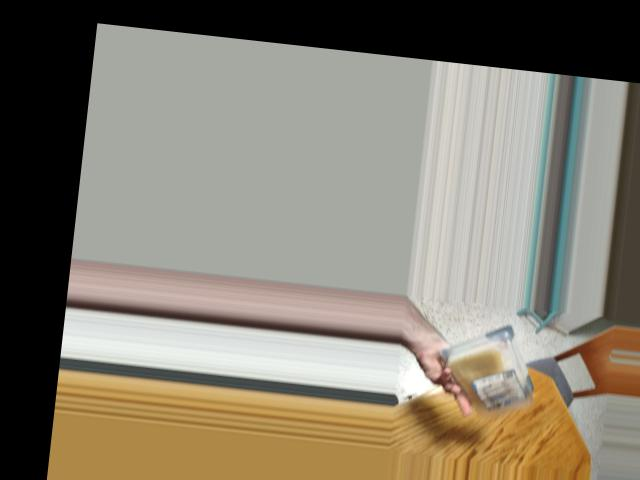cheese: (442, 335, 535, 415)
